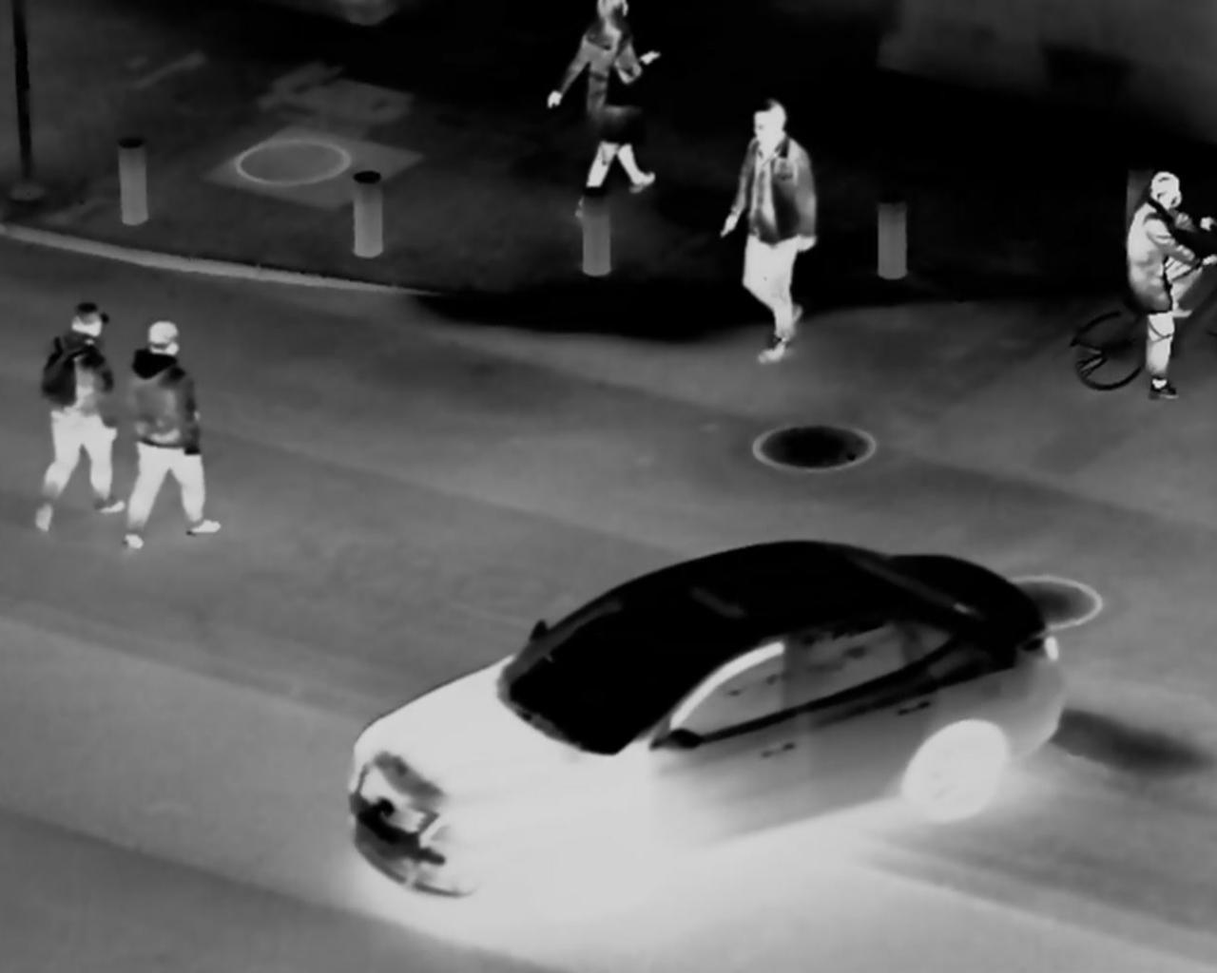person: (721, 89, 820, 367), (115, 318, 226, 553), (1109, 159, 1215, 395), (38, 296, 122, 539)
